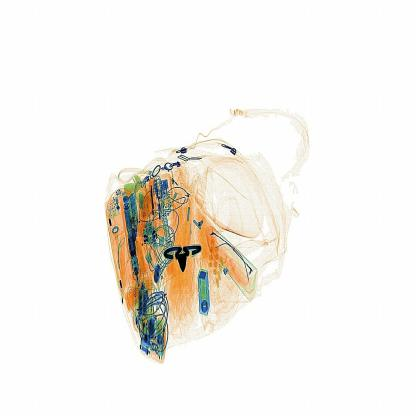gun: (155, 230, 208, 274)
